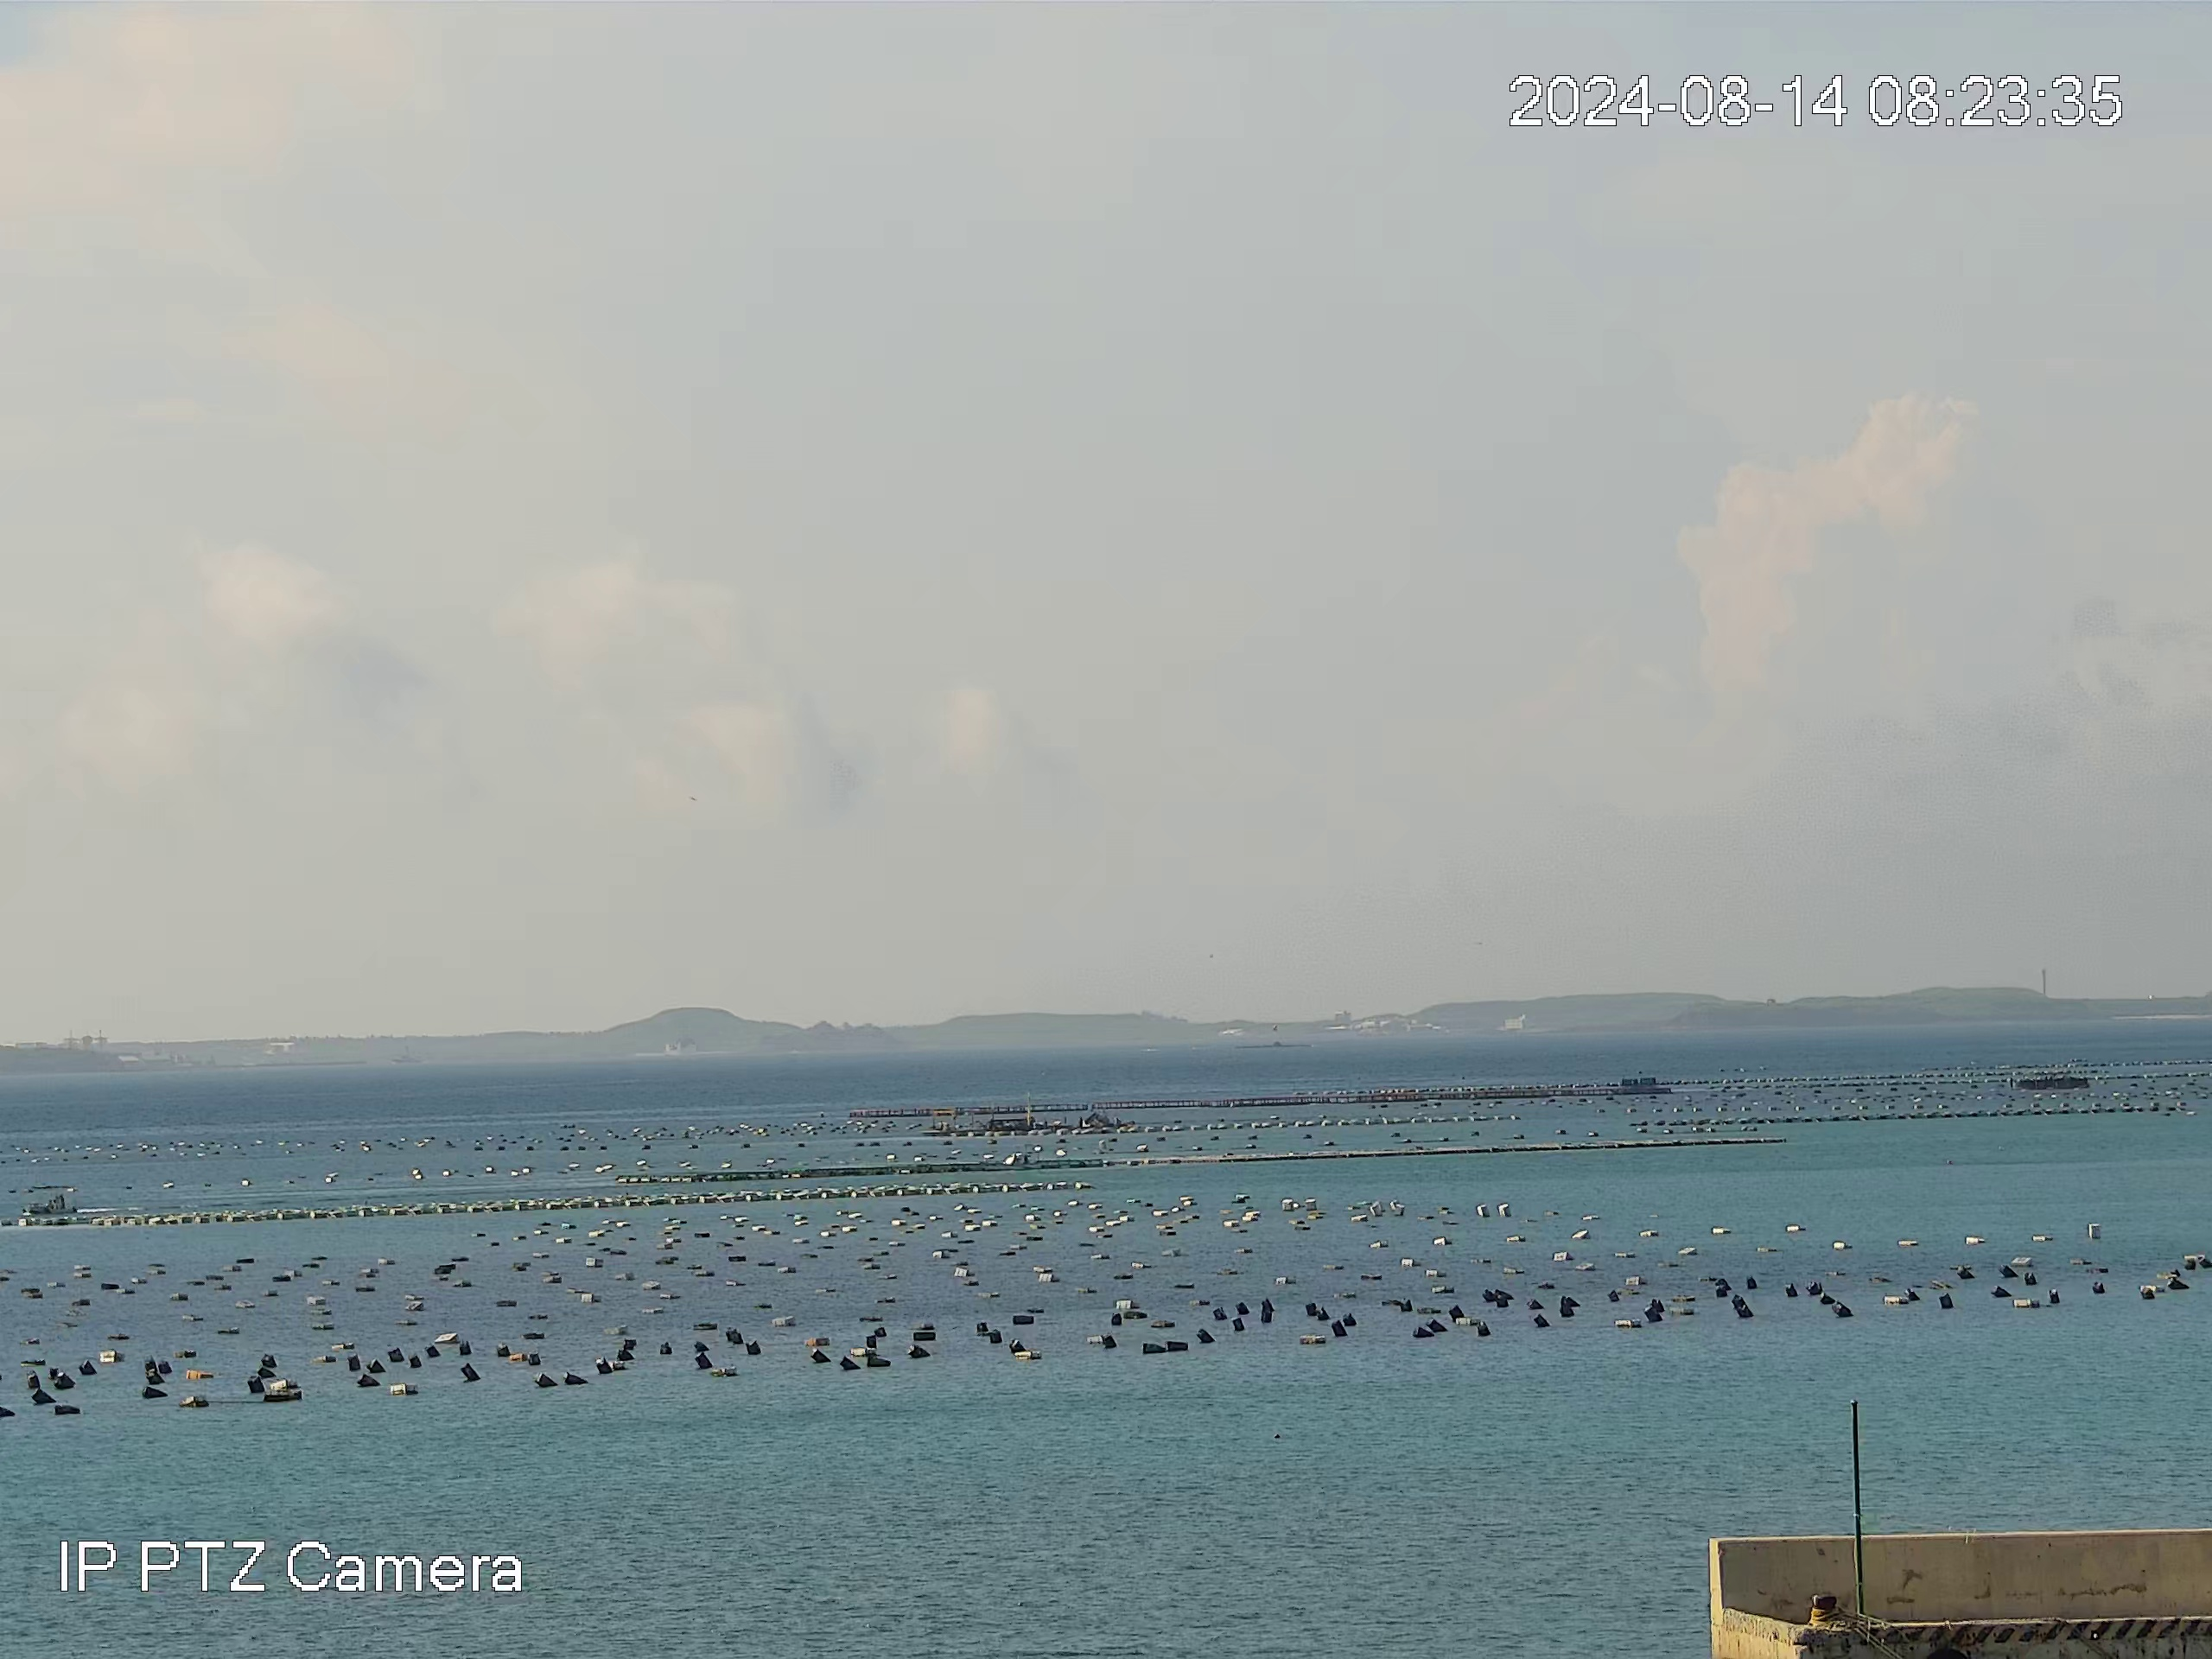boat: (2006, 1068, 2097, 1096)
